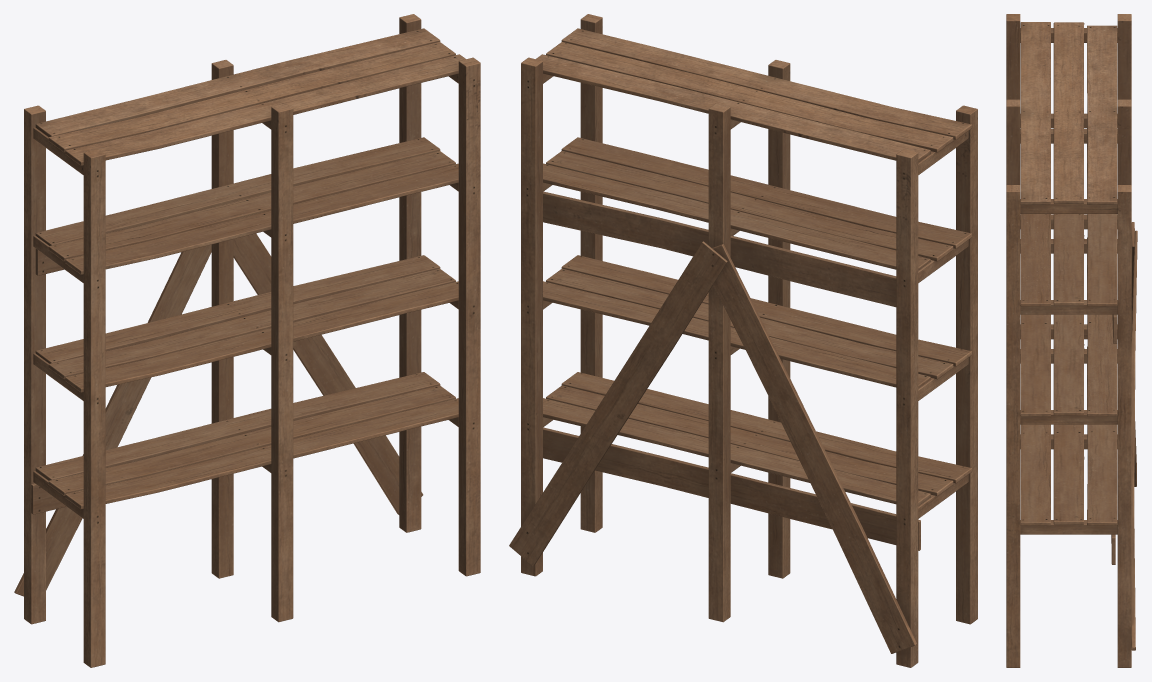
File: shoe5.glb
3 views of the same model, side by side, from view 1: azimuth 30°, elevation 25°; view 2: azimuth 150°, elevation 25°; view 3: azimuth 270°, elevation 25° (orthographic). The views are drawn at different scales.
Visible parts, largest first — view 1: wooden_storage_shelf; view 2: wooden_storage_shelf; view 3: wooden_storage_shelf.
Part boxes in pixels (x1=…): wooden_storage_shelf: x1=14, y1=14, x2=480, y2=667; wooden_storage_shelf: x1=509, y1=14, x2=977, y2=667; wooden_storage_shelf: x1=1006, y1=14, x2=1137, y2=667.
Size of the model in its own units: 2.17 by 2.6 by 0.6495.
Materials: 1 (1 with a texture image).
